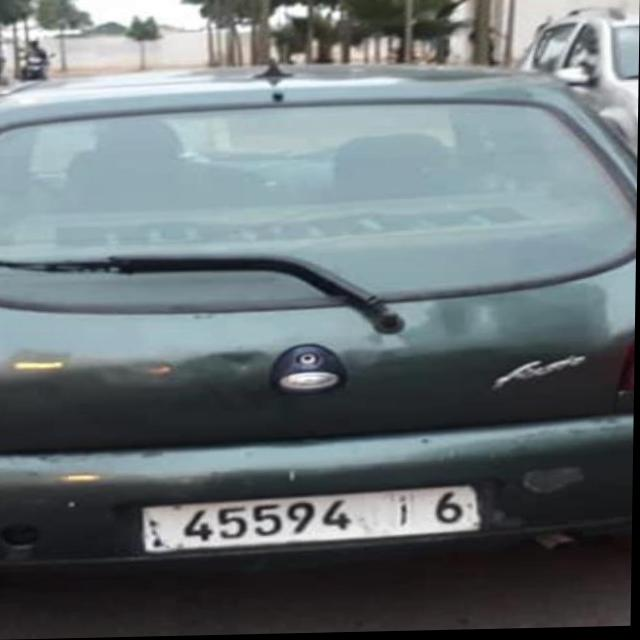License-Plate: (144, 488, 483, 555)
